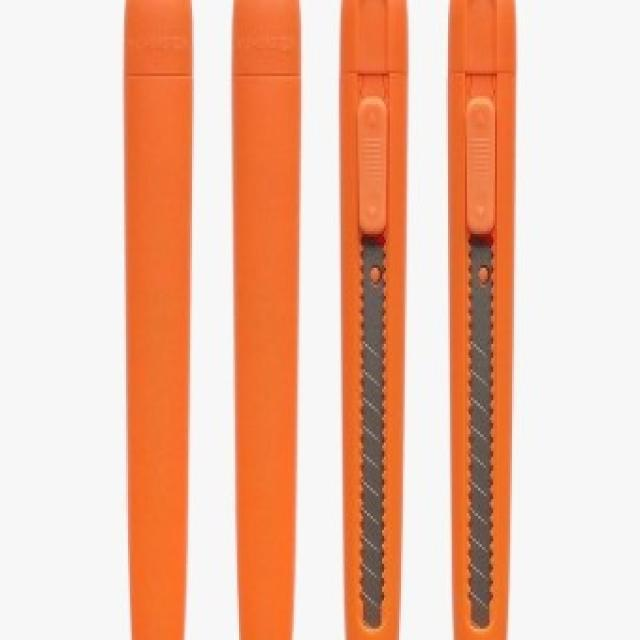cutter: (329, 0, 418, 640), (454, 0, 522, 640)
